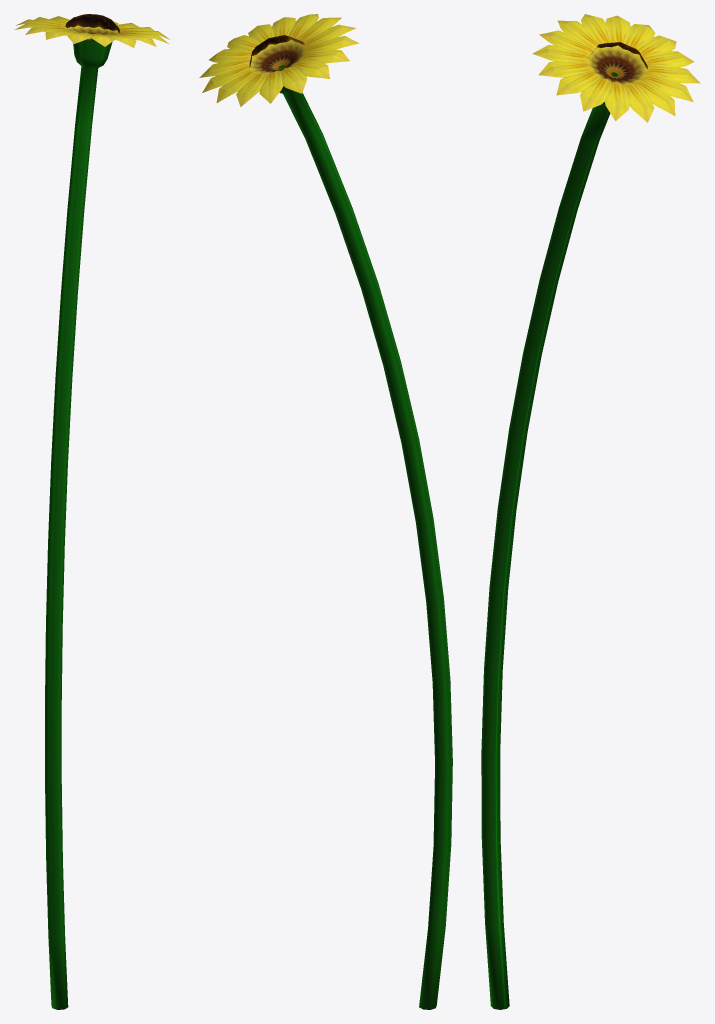
File: flower_B_c01.fbx
3 views of the same model, side by side, from view 1: azimuth 30°, elevation 25°; view 2: azimuth 150°, elevation 25°; view 3: azimuth 270°, elevation 25° (orthographic). The views are drawn at different scales.
Parts seen in each view (by area): view 1: flowerB_c1; view 2: flowerB_c1; view 3: flowerB_c1.
Boxes of the visible parts, x1,y1,x2,y2 form: flowerB_c1: (14, 14, 169, 1009); flowerB_c1: (199, 14, 452, 1009); flowerB_c1: (481, 14, 700, 1009).
Bounding box in the file's own units: 4.56 × 23.68 × 4.66.
Materials: 1 (1 with a texture image).
